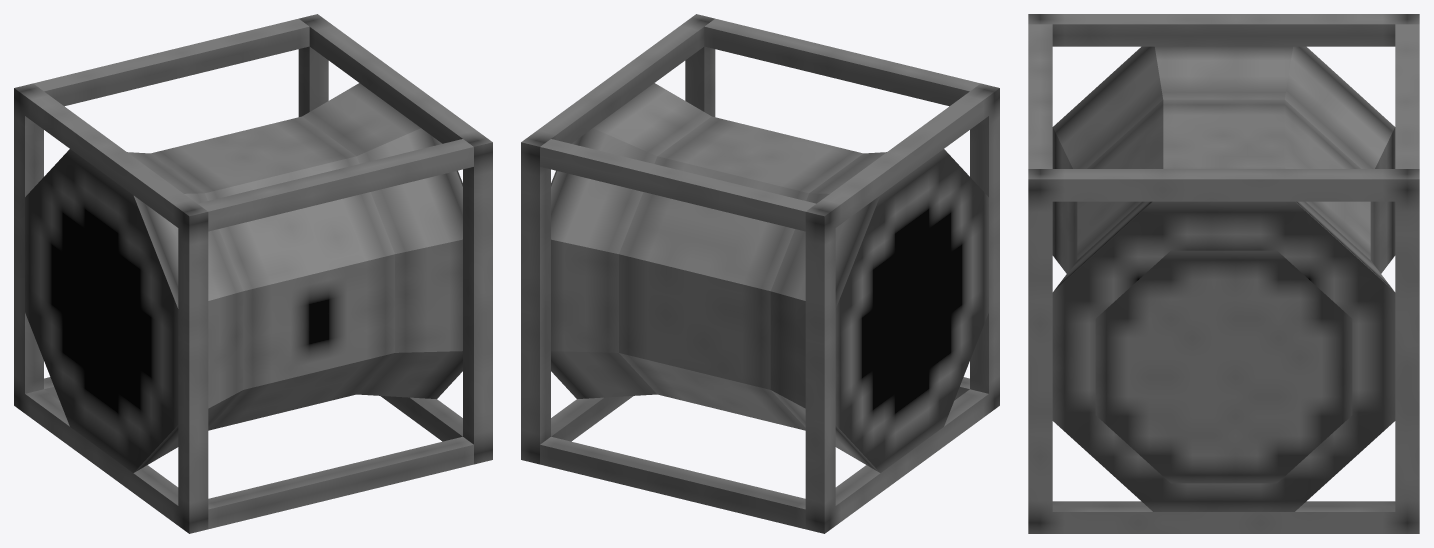
File: vortexTube.obj
3 views of the same model, side by side, from view 1: azimuth 30°, elevation 25°; view 2: azimuth 150°, elevation 25°; view 3: azimuth 270°, elevation 25° (orthographic). The views are drawn at different scales.
Visible parts, largest first — view 1: Cold, Center, Side_1, Hot_1, Sice_2, Cross_1, Cross_3, Cross_2; view 2: Cold, Center, Side_1, Hot_1, Sice_2, Cross_2, Cross_4, Cross_1; view 3: Hot_2, Hot_1, Sice_2, Cold, Center, Side_1, Cross_1, Cross_2.
Part boxes in pixels (x1=…): Cold: x1=25, y1=149, x2=243, y2=472; Center: x1=150, y1=116, x2=394, y2=430; Side_1: x1=14, y1=83, x2=208, y2=533; Hot_1: x1=302, y1=83, x2=462, y2=398; Sice_2: x1=298, y1=14, x2=492, y2=464; Cross_1: x1=198, y1=139, x2=473, y2=231; Cross_3: x1=208, y1=436, x2=473, y2=529; Cross_2: x1=33, y1=18, x2=309, y2=106; Cold: x1=770, y1=149, x2=988, y2=472; Center: x1=619, y1=116, x2=863, y2=430; Side_1: x1=805, y1=83, x2=999, y2=533; Hot_1: x1=551, y1=83, x2=711, y2=398; Sice_2: x1=521, y1=14, x2=715, y2=464; Cross_2: x1=540, y1=139, x2=815, y2=231; Cross_4: x1=540, y1=436, x2=805, y2=529; Cross_1: x1=704, y1=18, x2=980, y2=106; Hot_2: x1=1095, y1=250, x2=1352, y2=483; Hot_1: x1=1052, y1=201, x2=1395, y2=511; Sice_2: x1=1028, y1=169, x2=1419, y2=533; Cold: x1=1052, y1=46, x2=1395, y2=273; Center: x1=1077, y1=99, x2=1370, y2=259; Side_1: x1=1028, y1=14, x2=1419, y2=46; Cross_1: x1=1028, y1=24, x2=1052, y2=168; Cross_2: x1=1395, y1=24, x2=1419, y2=168.
Size of the model in its own units: 669 by 630 by 630.
